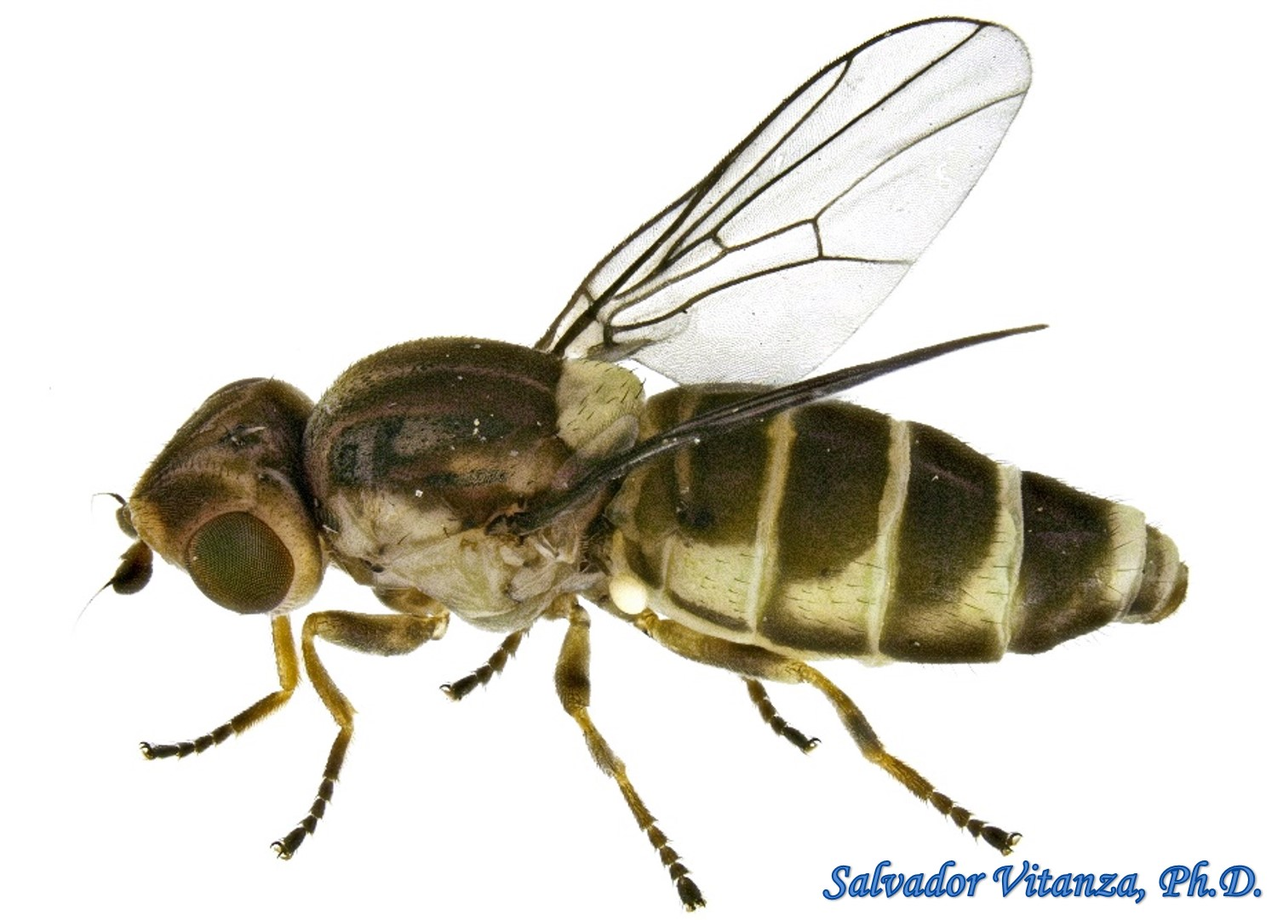Chloropidae: (79, 9, 1190, 911)
